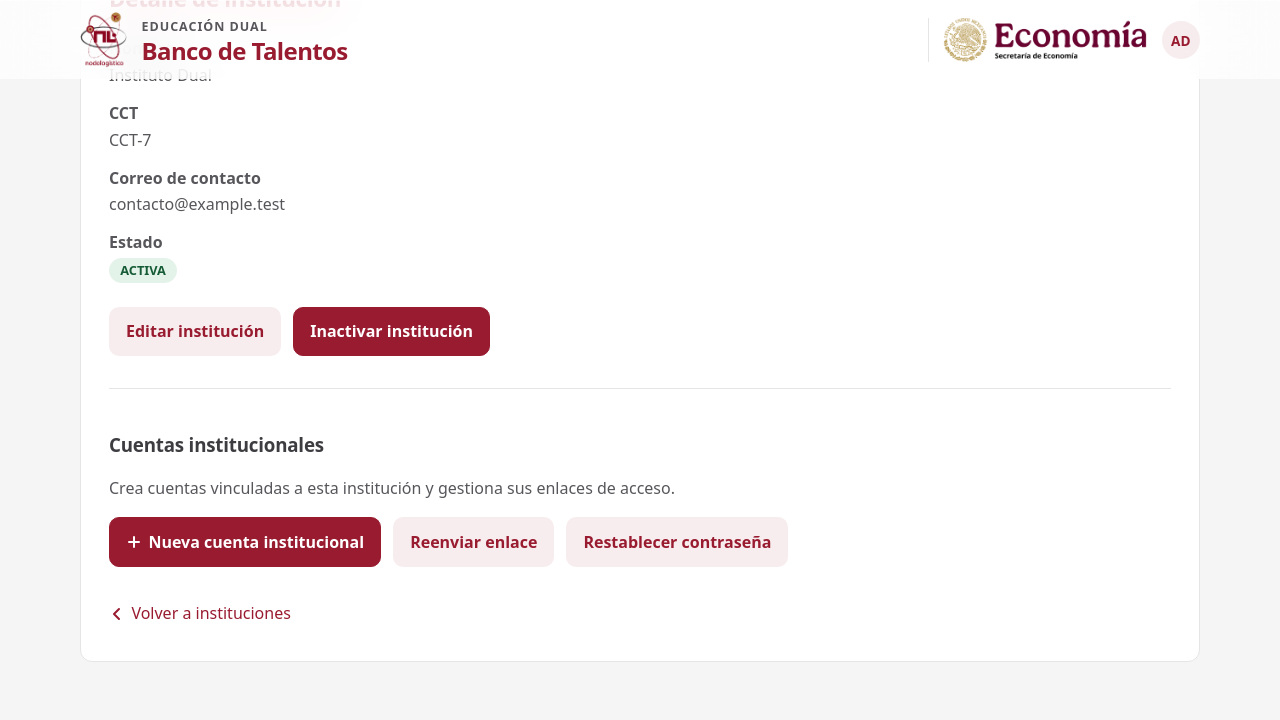
Test: inicio administrativo del restablecimiento HU-S1-04 › muestra una cuenta no elegible, incluida una pendiente de configuración, junto al campo de correo
This screenshot has width=1280, height=720.
(page scrolled)
Click the button "Restablecer contraseña" at (677, 542), box [566,517,788,567]
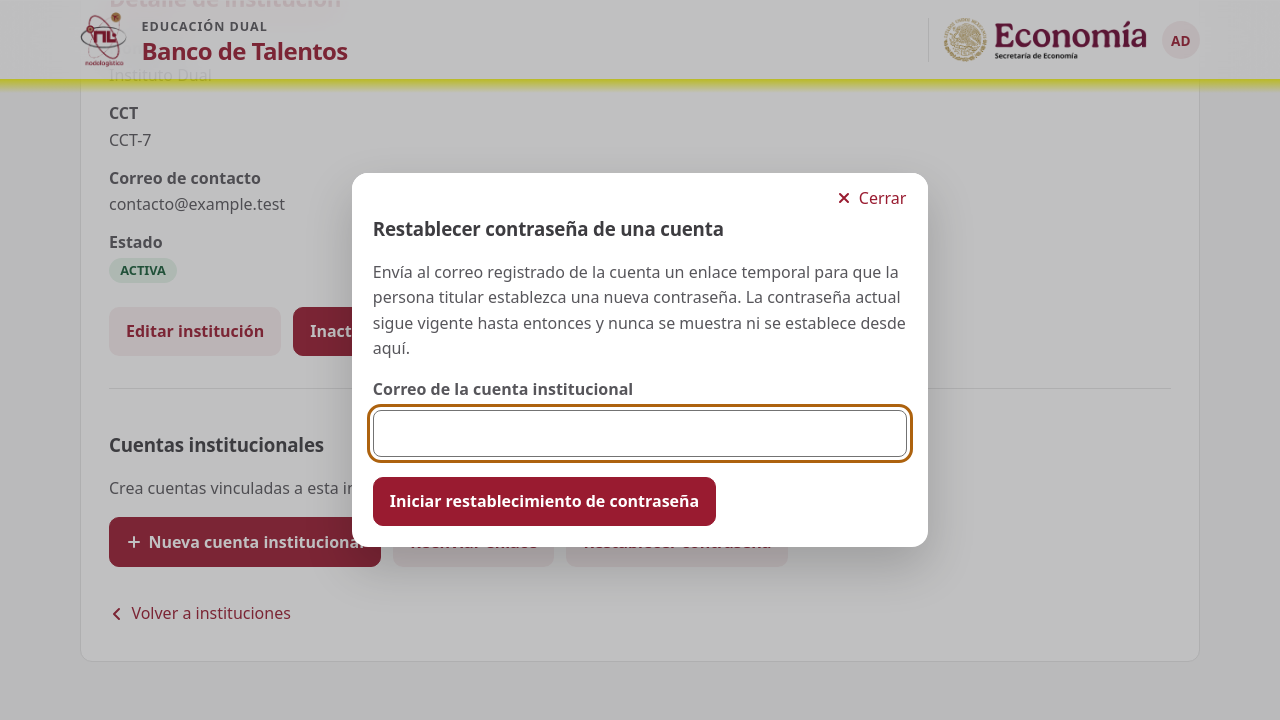
Type "titular@example.test" into the field labelled "Correo de la cuenta institucional" at (640, 434), box [373,410,907,457]
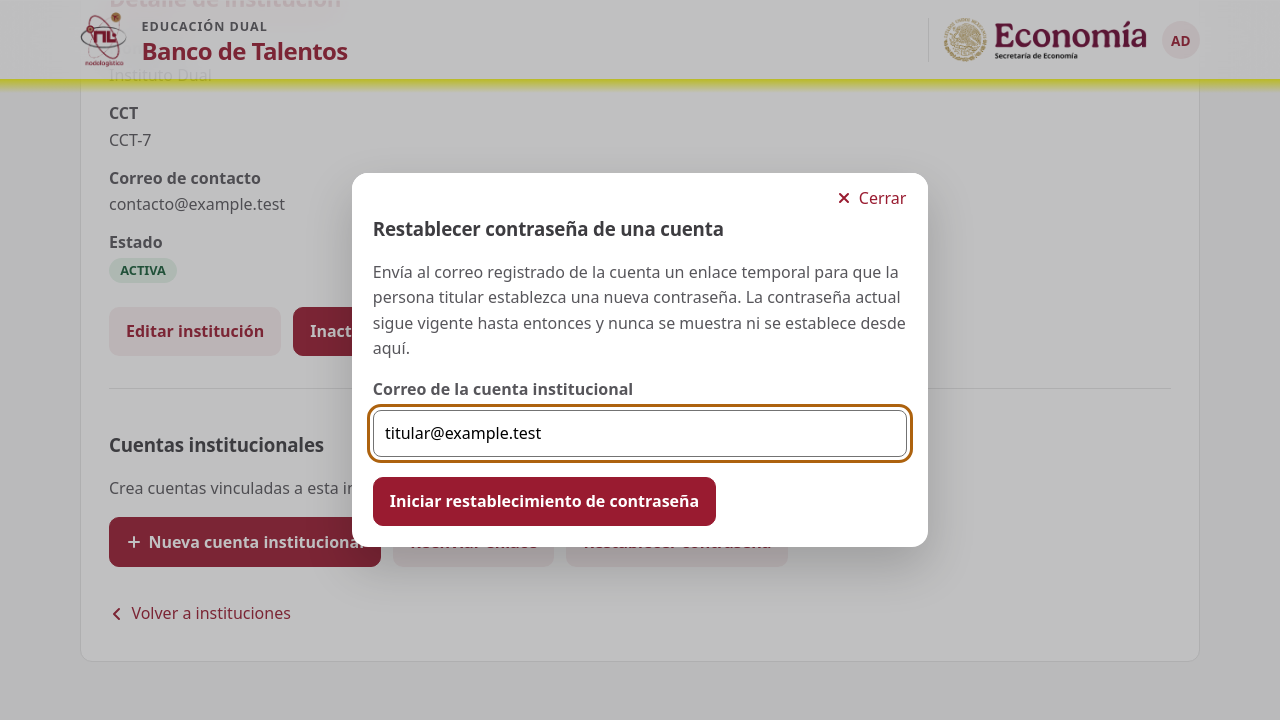
Click the button "Iniciar restablecimiento de contraseña" at (544, 501), box [373,477,716,526]
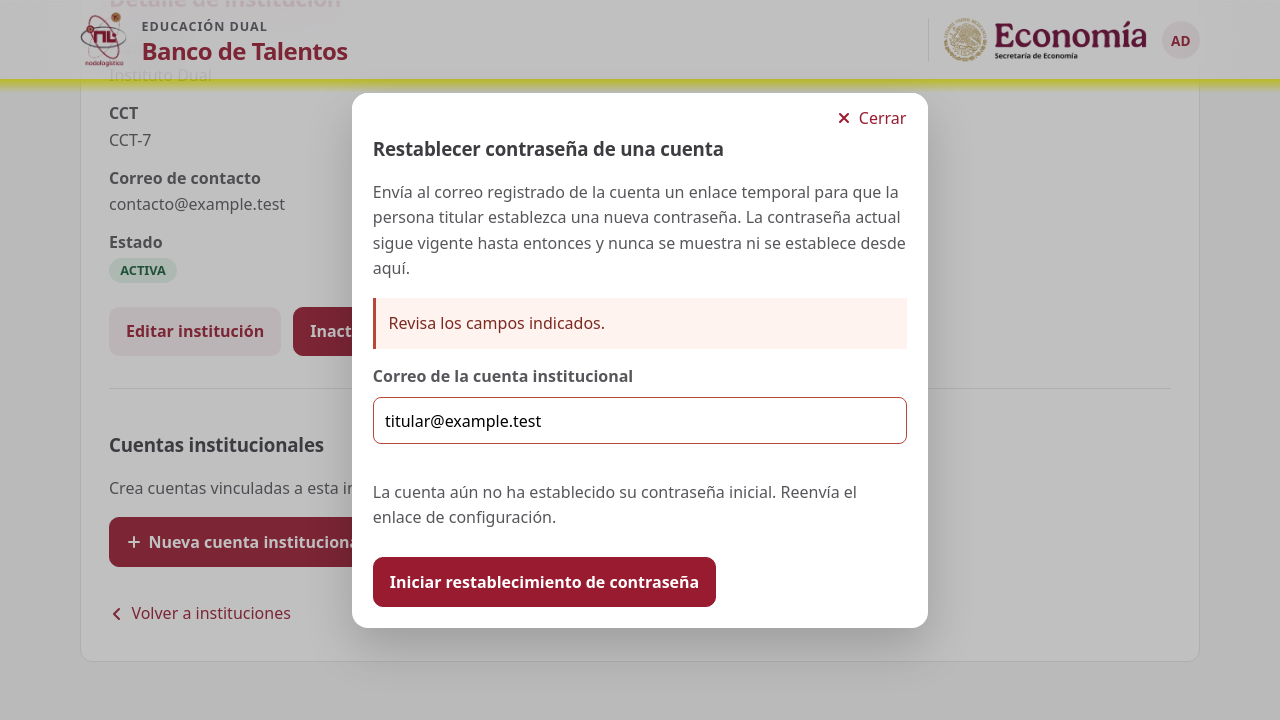
Now the text "La cuenta aún no ha establecido su contraseña inicial. Reenvía el enlace de configuración." is shown, box [373,480,857,528]
